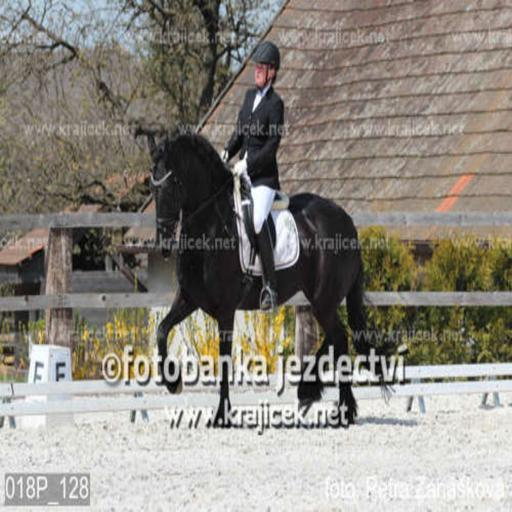horse: (148, 128, 410, 430)
